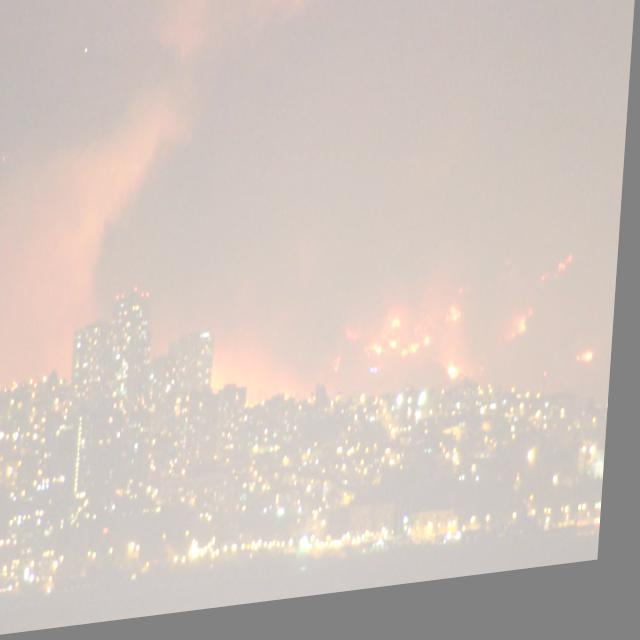Fire: (352, 308, 477, 403), (514, 252, 580, 361), (580, 362, 602, 382)
